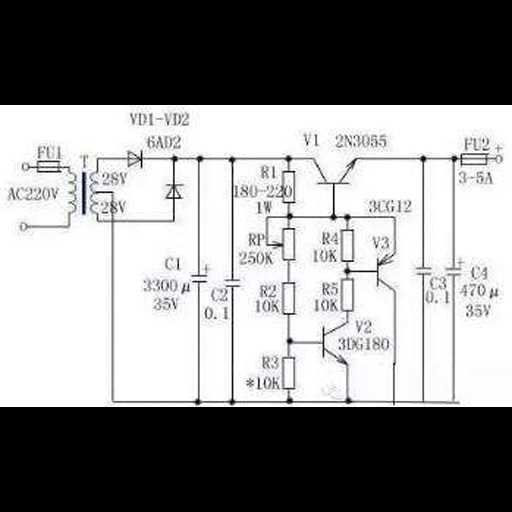capacitor: (224, 273, 244, 291), (414, 261, 433, 278)
firstpolarcapacitor: (190, 261, 209, 286), (446, 258, 465, 279)
firstresistance: (280, 167, 302, 206), (280, 354, 302, 393), (338, 225, 358, 265), (338, 276, 357, 313), (281, 278, 297, 319)
fuse: (456, 150, 492, 168), (33, 159, 65, 176)
npn: (316, 318, 355, 371), (308, 152, 360, 190)
pnp: (368, 251, 403, 296)
seconddiode: (124, 146, 145, 171), (163, 182, 186, 202)
transformer: (66, 166, 101, 229)
